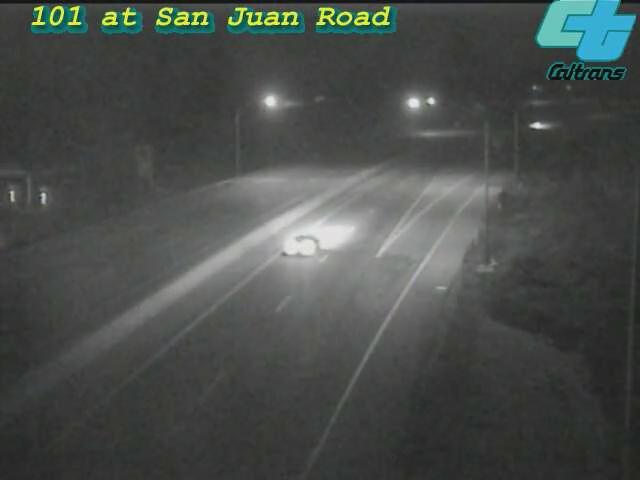vehicle: (261, 202, 341, 282), (512, 101, 562, 151)
